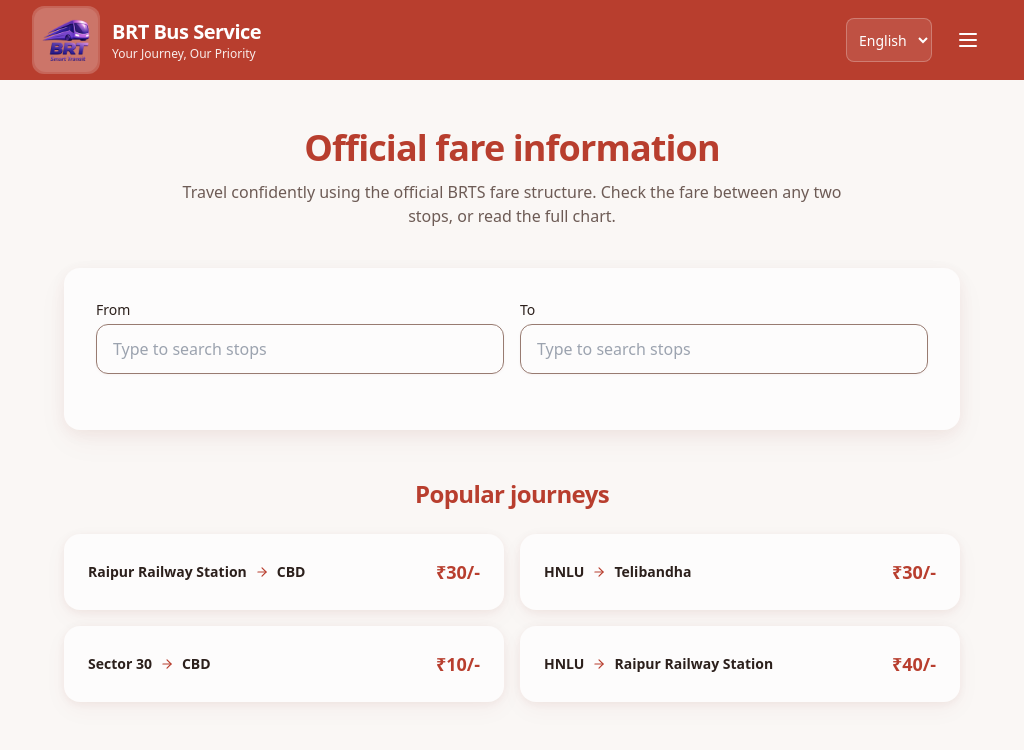
Scenario: popular journeys › fills both stops when one is chosen
Click the button "Sector 30 CBD ₹10/-".
click(120, 664)  # box left=64, top=626, right=504, bottom=702
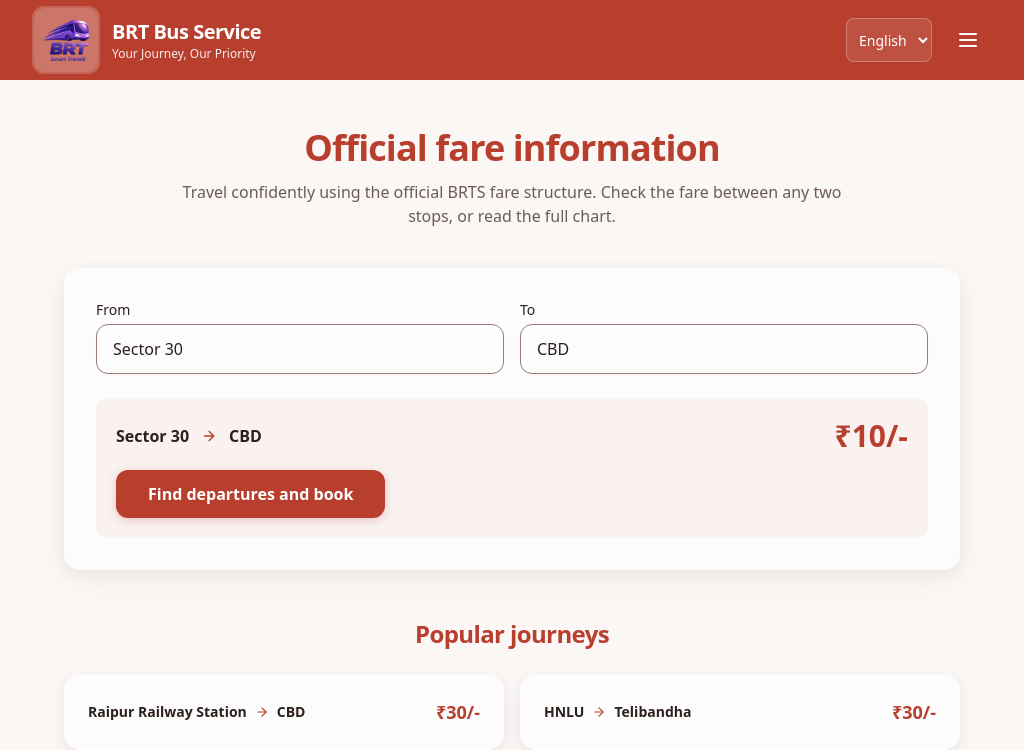
Now the field labelled "From" holds "Sector 30", box left=96, top=324, right=504, bottom=374
Now the field labelled "To" holds "CBD", box left=520, top=324, right=928, bottom=374
Now the link "Find departures and book" is shown, box left=116, top=470, right=385, bottom=518
